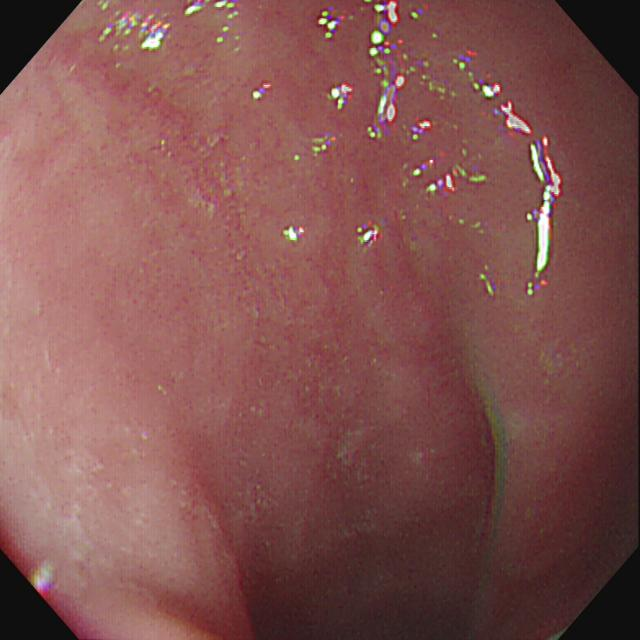A: (295, 248, 349, 439), (178, 125, 252, 240), (101, 64, 193, 125)
U: (527, 137, 564, 279), (369, 2, 406, 140), (100, 13, 172, 53), (426, 166, 489, 196), (493, 100, 533, 136), (320, 10, 354, 39), (184, 2, 236, 17), (328, 83, 354, 112), (358, 222, 385, 247), (412, 119, 433, 142), (473, 84, 502, 99), (285, 227, 307, 245), (253, 83, 272, 100)
